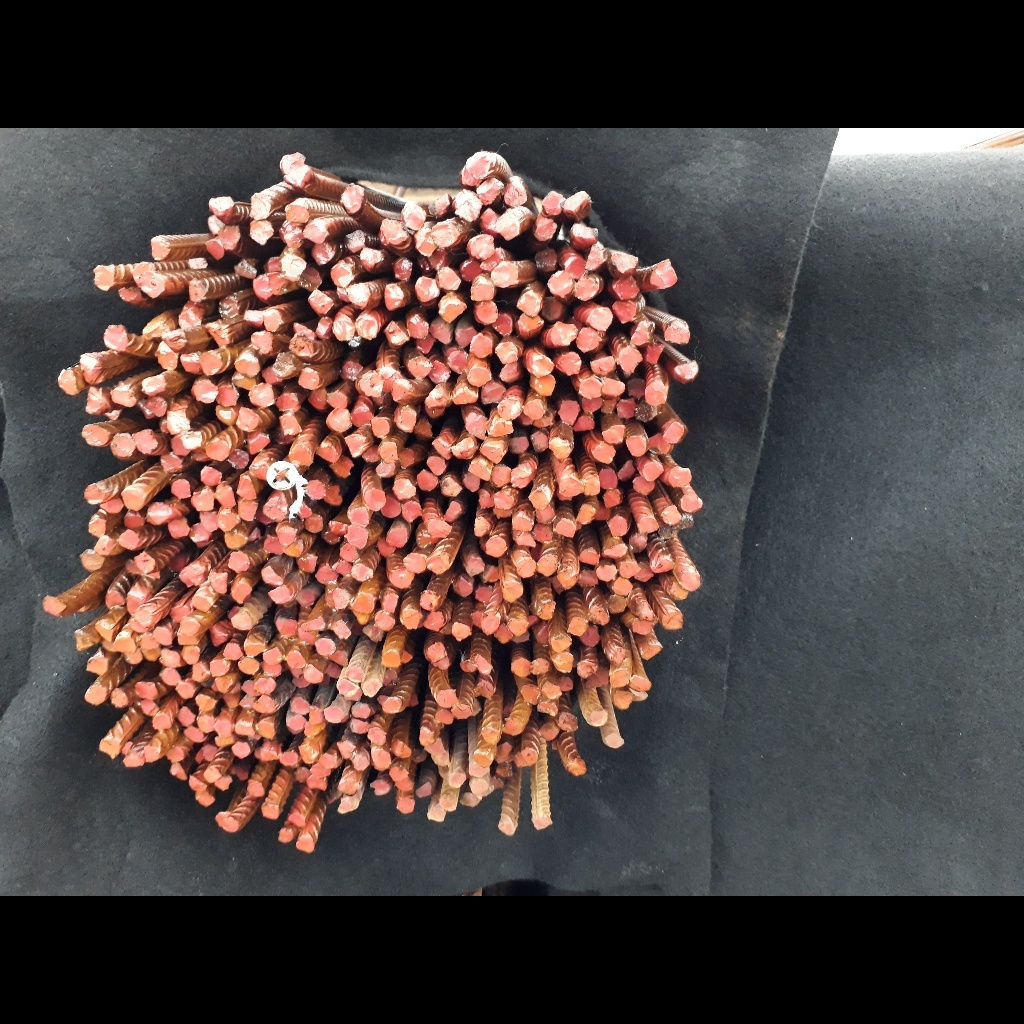dipstick: (647, 258, 680, 291), (452, 187, 482, 222), (605, 245, 639, 275), (432, 218, 464, 249), (340, 181, 367, 216), (437, 291, 467, 322), (377, 218, 410, 246), (207, 194, 238, 223), (286, 331, 317, 360), (664, 316, 693, 346), (189, 376, 219, 405), (78, 352, 106, 383), (415, 220, 439, 256), (144, 311, 177, 337), (491, 260, 520, 289), (357, 369, 385, 399), (305, 288, 335, 316), (548, 433, 576, 463), (102, 322, 133, 349), (331, 310, 356, 343), (398, 201, 426, 230), (555, 348, 583, 377), (525, 349, 554, 377), (470, 273, 498, 302), (325, 405, 354, 433), (236, 405, 264, 434), (612, 297, 642, 324), (162, 408, 192, 435), (618, 345, 644, 376), (404, 353, 432, 381), (56, 367, 84, 395), (612, 273, 641, 300), (352, 312, 379, 341), (377, 367, 406, 394), (502, 176, 528, 206), (532, 213, 558, 243), (177, 563, 209, 587), (467, 151, 495, 178), (547, 269, 574, 297), (296, 264, 323, 292), (234, 350, 262, 377), (488, 409, 516, 436), (584, 306, 613, 332), (633, 397, 662, 423), (466, 233, 495, 259), (358, 246, 387, 272), (328, 259, 357, 285), (385, 319, 411, 348), (248, 191, 274, 220), (479, 438, 508, 464), (343, 432, 372, 458), (575, 271, 600, 301), (453, 319, 478, 349), (133, 428, 158, 458), (128, 604, 158, 629), (136, 395, 167, 419), (476, 177, 503, 204), (623, 374, 650, 401), (435, 265, 462, 292), (304, 218, 331, 245), (279, 251, 306, 278), (451, 432, 478, 459), (516, 290, 544, 316), (678, 566, 704, 594), (451, 382, 479, 408), (206, 320, 234, 346), (84, 386, 110, 414), (248, 381, 276, 407), (628, 320, 657, 345), (495, 216, 524, 241), (178, 300, 203, 329), (81, 422, 110, 447), (110, 432, 135, 461), (383, 281, 407, 311), (601, 537, 631, 561), (643, 379, 669, 406), (415, 276, 441, 303), (339, 357, 366, 383), (388, 565, 415, 591), (424, 643, 451, 669), (272, 612, 298, 639), (563, 190, 591, 215), (310, 241, 338, 266), (140, 273, 168, 298), (204, 437, 232, 462), (550, 321, 579, 345), (529, 374, 558, 398), (517, 311, 546, 335), (82, 651, 111, 675), (584, 240, 606, 271), (394, 403, 416, 434), (494, 338, 520, 364), (253, 274, 279, 300), (325, 585, 351, 611), (189, 485, 215, 511), (542, 294, 567, 321), (217, 223, 242, 250), (260, 305, 285, 332), (273, 352, 300, 377), (142, 371, 169, 396), (78, 548, 105, 573), (390, 377, 418, 401), (249, 217, 273, 245), (109, 383, 137, 407), (463, 411, 487, 439), (327, 456, 355, 480), (627, 616, 656, 639), (430, 316, 453, 345), (275, 412, 304, 435), (230, 577, 253, 606), (150, 233, 172, 263), (155, 340, 177, 370), (570, 222, 601, 243), (534, 246, 560, 271), (675, 359, 700, 385), (480, 246, 506, 271), (446, 348, 471, 374), (343, 228, 369, 253), (422, 394, 447, 420), (275, 389, 301, 414), (325, 386, 350, 412), (558, 472, 584, 497), (224, 524, 249, 550), (556, 398, 580, 425), (475, 301, 502, 325), (470, 332, 494, 359), (251, 329, 275, 356), (469, 455, 493, 482), (145, 501, 172, 525), (591, 355, 619, 378), (163, 330, 191, 353), (590, 442, 618, 465), (315, 438, 343, 461), (400, 551, 428, 574), (369, 744, 392, 772), (335, 678, 363, 701), (208, 619, 231, 647), (229, 369, 259, 390), (280, 221, 305, 246), (215, 293, 240, 318), (200, 350, 225, 375), (215, 382, 240, 407), (216, 505, 241, 530), (576, 327, 600, 353), (285, 200, 311, 224), (284, 709, 308, 735), (235, 496, 259, 522), (215, 482, 238, 509), (285, 164, 313, 186), (351, 400, 373, 428), (82, 683, 110, 705), (564, 255, 589, 279), (579, 374, 603, 399), (480, 380, 505, 404), (497, 396, 522, 420), (483, 534, 508, 558), (399, 606, 424, 630), (649, 433, 675, 456), (667, 466, 693, 489), (492, 312, 515, 338), (158, 450, 184, 473), (450, 574, 476, 597), (126, 589, 149, 615), (112, 629, 138, 652), (212, 672, 238, 695), (600, 422, 627, 444), (391, 255, 413, 282), (92, 264, 114, 291), (279, 151, 308, 171), (296, 365, 320, 389), (555, 517, 579, 541), (500, 579, 524, 603), (518, 681, 542, 705), (191, 590, 215, 614), (679, 491, 704, 514), (522, 397, 547, 420), (348, 283, 373, 306), (606, 514, 631, 537), (337, 737, 360, 762), (71, 628, 96, 651), (428, 193, 450, 219), (651, 554, 677, 576), (291, 318, 317, 340), (121, 488, 147, 510), (589, 600, 611, 626), (419, 589, 445, 611), (260, 564, 287, 585), (626, 435, 649, 459), (640, 639, 664, 662), (602, 375, 626, 398), (500, 361, 524, 384), (533, 407, 556, 431), (378, 439, 401, 463), (246, 431, 270, 454), (576, 565, 600, 588), (263, 496, 287, 519), (351, 558, 374, 582), (275, 522, 298, 546), (494, 741, 517, 765), (228, 549, 251, 573), (541, 190, 563, 215), (663, 422, 688, 444), (668, 581, 693, 603), (467, 365, 492, 387), (233, 257, 258, 279), (577, 545, 602, 567), (490, 463, 512, 488), (427, 552, 452, 574), (346, 506, 371, 528), (550, 651, 575, 673), (390, 735, 412, 760), (215, 811, 240, 833), (208, 569, 230, 594), (197, 509, 222, 531), (189, 521, 211, 546), (292, 587, 318, 608), (41, 595, 67, 616), (492, 760, 524, 777), (511, 527, 538, 547), (242, 635, 269, 655), (177, 615, 204, 635), (135, 679, 162, 699), (662, 609, 685, 632), (460, 259, 483, 282), (187, 278, 210, 301), (619, 555, 642, 578), (425, 454, 448, 477), (290, 443, 313, 466), (393, 477, 416, 500), (555, 566, 578, 589), (346, 525, 369, 548), (205, 238, 227, 262), (432, 435, 454, 459), (537, 553, 559, 577), (351, 590, 375, 612), (255, 716, 277, 740), (207, 655, 231, 677), (94, 618, 118, 640), (406, 312, 427, 337), (181, 349, 202, 374), (238, 473, 259, 498), (510, 464, 531, 489), (387, 523, 408, 548), (547, 631, 572, 652), (350, 745, 371, 770), (336, 793, 361, 814), (107, 688, 132, 709), (429, 358, 449, 384), (427, 518, 453, 538), (135, 630, 161, 650), (617, 395, 636, 422), (315, 313, 334, 340), (422, 612, 449, 631), (377, 694, 404, 713), (635, 601, 658, 623), (368, 415, 390, 438), (616, 460, 638, 483), (633, 559, 655, 582), (227, 447, 250, 469), (84, 482, 107, 504), (201, 464, 223, 487), (530, 488, 553, 510), (608, 666, 631, 688), (462, 554, 485, 576), (297, 553, 320, 575), (512, 655, 535, 677), (298, 741, 320, 764), (167, 516, 190, 538), (134, 550, 156, 573), (159, 646, 182, 668), (415, 469, 439, 490), (492, 488, 516, 509), (402, 499, 423, 523), (380, 494, 401, 518), (514, 748, 538, 769), (260, 657, 284, 678), (116, 529, 140, 550), (633, 475, 658, 495), (308, 386, 328, 411), (537, 722, 562, 742), (88, 512, 108, 537), (93, 536, 118, 556), (191, 658, 211, 683), (480, 208, 499, 234), (254, 744, 281, 762), (642, 460, 664, 482), (205, 214, 227, 236), (603, 487, 625, 509), (169, 433, 191, 455), (316, 562, 338, 584), (588, 666, 610, 688), (473, 677, 495, 699), (558, 710, 580, 732), (362, 620, 384, 642), (302, 663, 324, 685), (304, 479, 327, 500), (364, 488, 387, 509), (438, 476, 461, 497), (460, 470, 481, 493), (533, 522, 556, 543), (442, 500, 463, 523), (373, 535, 396, 556), (536, 598, 557, 621), (425, 804, 448, 825), (373, 609, 396, 630), (196, 711, 217, 734), (374, 458, 398, 478), (480, 609, 500, 633), (576, 657, 600, 677), (436, 688, 460, 708), (231, 611, 255, 631), (413, 417, 432, 442), (636, 515, 661, 534), (268, 583, 293, 602), (194, 743, 219, 762), (414, 332, 436, 353), (243, 308, 265, 329), (627, 531, 648, 553), (577, 503, 598, 525), (339, 541, 361, 562), (471, 654, 492, 676), (105, 587, 127, 608), (99, 737, 121, 758), (646, 342, 666, 365), (530, 430, 550, 453), (631, 673, 654, 693), (529, 657, 552, 677), (565, 756, 588, 776), (469, 777, 492, 797), (338, 775, 358, 798), (159, 666, 182, 686), (138, 696, 161, 716), (571, 415, 598, 432), (662, 503, 681, 527), (511, 512, 535, 531), (569, 613, 588, 637), (541, 681, 565, 700), (379, 649, 403, 668), (254, 695, 278, 714), (221, 641, 245, 660), (168, 603, 192, 622), (177, 704, 196, 728), (215, 405, 240, 423), (328, 518, 354, 535), (171, 477, 192, 498), (611, 690, 632, 711), (474, 583, 495, 604), (611, 577, 633, 597), (607, 594, 629, 614), (517, 557, 537, 579), (303, 513, 325, 533), (366, 726, 388, 746), (296, 832, 316, 854), (286, 647, 306, 669), (153, 624, 173, 646), (533, 505, 556, 524), (473, 515, 492, 538), (609, 643, 628, 666), (229, 740, 252, 759), (123, 508, 146, 527), (181, 642, 200, 665), (173, 680, 196, 699), (627, 685, 651, 703), (535, 699, 559, 717), (451, 702, 475, 720), (381, 588, 399, 612), (300, 616, 327, 632), (303, 720, 327, 738), (579, 395, 604, 412), (194, 692, 219, 709), (335, 282, 355, 303), (132, 261, 153, 281), (583, 475, 603, 496), (479, 563, 500, 583), (396, 793, 416, 814), (362, 675, 382, 696), (382, 665, 402, 686), (330, 618, 350, 639), (314, 637, 335, 657), (263, 533, 283, 554), (152, 711, 173, 731), (658, 523, 681, 541), (600, 466, 618, 489), (508, 436, 531, 454), (480, 726, 503, 744), (323, 705, 346, 723), (318, 751, 341, 769), (253, 676, 277, 693), (600, 394, 620, 414), (507, 615, 527, 635), (346, 716, 371, 732), (277, 825, 297, 845), (291, 765, 311, 785), (597, 562, 618, 581), (324, 485, 343, 506), (477, 488, 496, 509), (581, 625, 600, 646), (438, 793, 459, 812), (415, 780, 434, 801), (238, 656, 259, 675), (169, 761, 188, 782), (676, 513, 698, 531), (605, 731, 627, 749), (419, 725, 437, 747), (433, 706, 455, 724), (328, 650, 350, 668), (331, 560, 354, 577), (350, 702, 373, 719), (263, 646, 286, 663), (120, 649, 144, 665), (472, 748, 492, 767), (214, 718, 234, 737), (284, 539, 305, 557), (246, 780, 267, 798), (194, 789, 215, 807), (183, 727, 208, 742), (399, 447, 416, 469), (459, 791, 481, 808), (425, 737, 447, 754), (370, 778, 392, 795), (306, 775, 328, 792), (279, 750, 301, 767), (234, 718, 256, 735), (362, 444, 381, 463), (589, 708, 608, 727), (452, 621, 472, 639), (448, 771, 468, 789), (431, 748, 451, 766), (100, 498, 124, 513), (266, 253, 283, 274), (183, 431, 204, 448), (289, 696, 310, 713), (166, 745, 187, 762), (117, 285, 139, 301), (320, 529, 342, 545), (310, 762, 332, 778), (123, 753, 145, 769), (176, 630, 201, 644), (285, 812, 308, 827), (504, 716, 522, 735), (497, 821, 517, 838), (306, 703, 323, 723), (388, 765, 409, 781), (140, 646, 162, 661), (410, 745, 428, 763), (214, 773, 231, 792), (534, 816, 554, 832), (344, 665, 364, 681), (394, 778, 415, 793), (260, 801, 281, 816), (241, 677, 258, 695), (187, 773, 205, 790), (555, 676, 574, 692), (353, 610, 373, 625), (287, 665, 308, 679), (487, 774, 505, 790), (99, 636, 117, 652), (143, 744, 159, 762), (204, 763, 219, 782), (238, 695, 258, 708), (460, 658, 477, 673), (291, 675, 311, 687), (519, 411, 534, 426), (120, 740, 135, 755)
